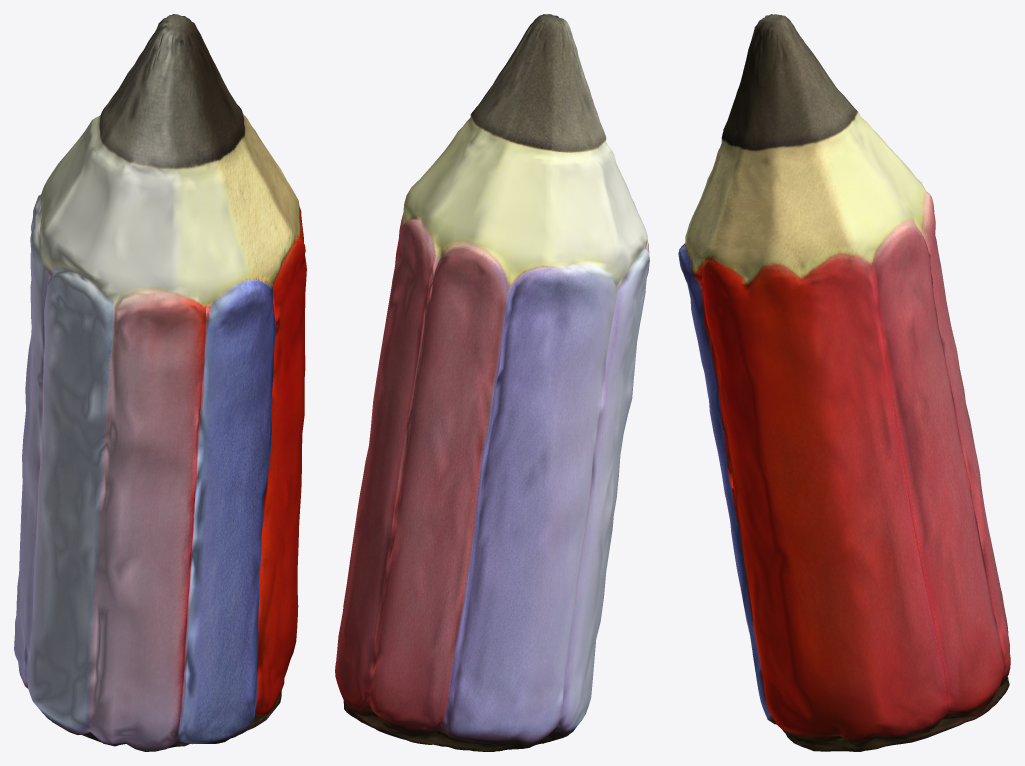
Rendered from Stack 6A - Pencil.glb.
The picture shows the model from 3 angles, left to right: view 1: azimuth 30°, elevation 25°; view 2: azimuth 150°, elevation 25°; view 3: azimuth 270°, elevation 25°; orthographic projection. The views are drawn at different scales.
Visible parts, largest first — view 1: Stack 6A - Pencil · mesh; view 2: Stack 6A - Pencil · mesh; view 3: Stack 6A - Pencil · mesh.
Part boxes in pixels (box(x1,y1,x2,y2)): Stack 6A - Pencil · mesh: box(14, 14, 306, 751); Stack 6A - Pencil · mesh: box(335, 14, 649, 751); Stack 6A - Pencil · mesh: box(678, 14, 1010, 751).
Bounding box in the file's own units: 0.3788 × 1 × 0.4399.
Materials: 1 (1 with a texture image).
